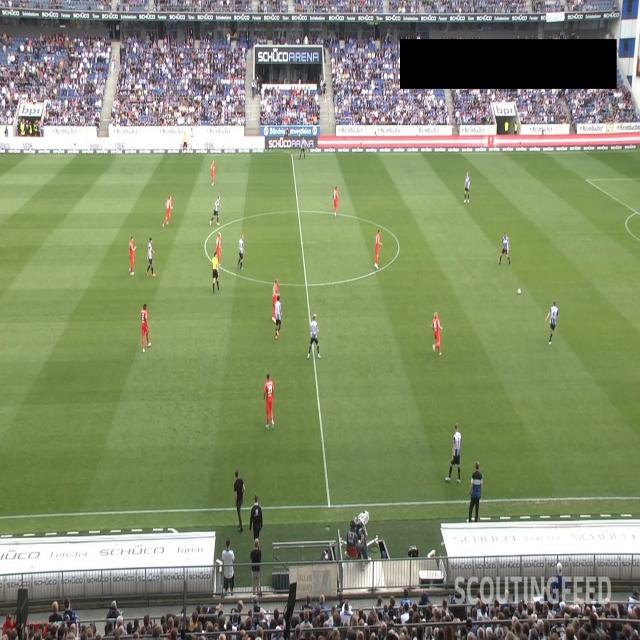ball: (518, 288, 522, 295)
